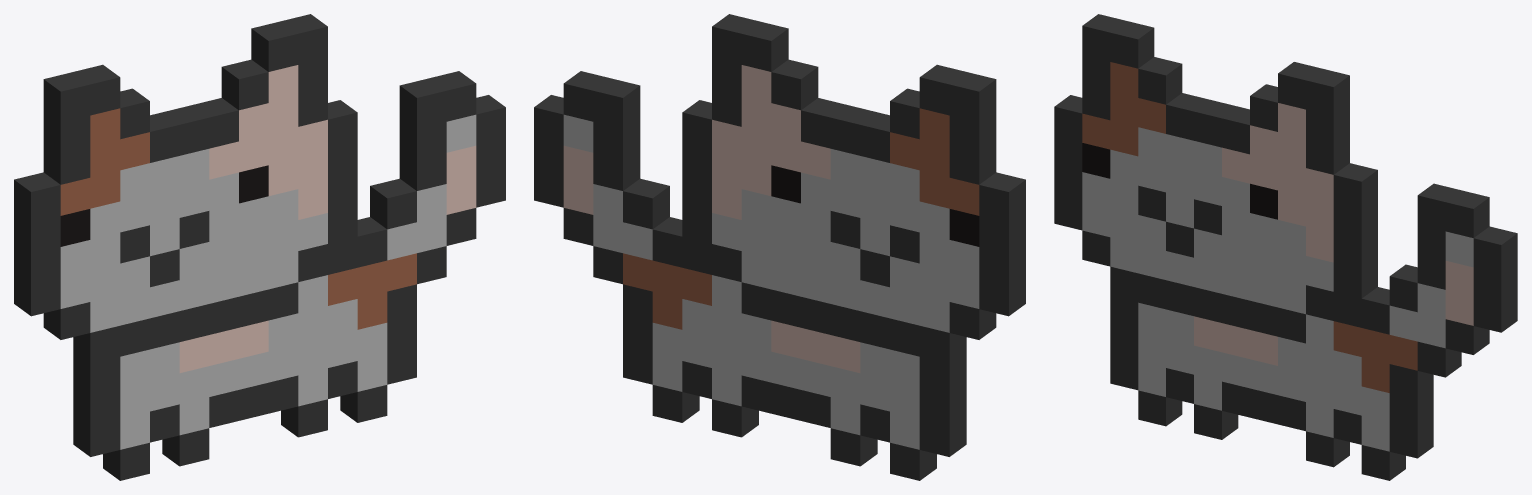
The model's file is smol-cat-two-color.gltf.
The picture shows the model from 3 angles, left to right: view 1: azimuth 30°, elevation 25°; view 2: azimuth 150°, elevation 25°; view 3: azimuth 330°, elevation 25°; orthographic projection. The views are drawn at different scales.
Parts seen in each view (by area): view 1: node 1; view 2: node 1; view 3: node 1.
Boxes of the visible parts, bbox=[...] form: node 1: bbox=[14, 14, 505, 480]; node 1: bbox=[534, 14, 1025, 480]; node 1: bbox=[1054, 14, 1517, 480].
Bounding box in the file's own units: 16 × 13 × 1.
1 material, 1 textured.
